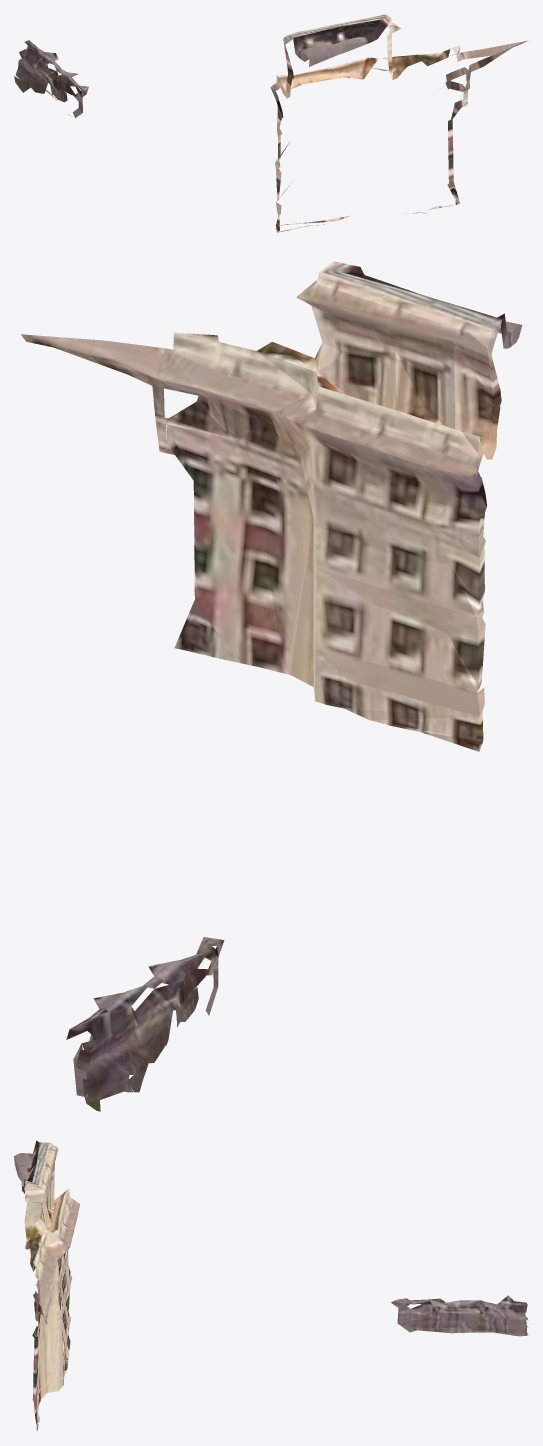
The picture shows the model from 3 angles, top to bottom: view 1: azimuth 30°, elevation 25°; view 2: azimuth 150°, elevation 25°; view 3: azimuth 270°, elevation 25°; orthographic projection. The views are drawn at different scales.
Visible parts, largest first — view 1: Mesh_0; view 2: Mesh_0; view 3: Mesh_0.
Part boxes in pixels (x1=…): Mesh_0: x1=14, y1=14, x2=527, y2=232; Mesh_0: x1=21, y1=261, x2=522, y2=1111; Mesh_0: x1=14, y1=1140, x2=527, y2=1430.
Size of the model in its own units: 24.74 by 17.83 by 38.31.
1 material, 1 textured.
